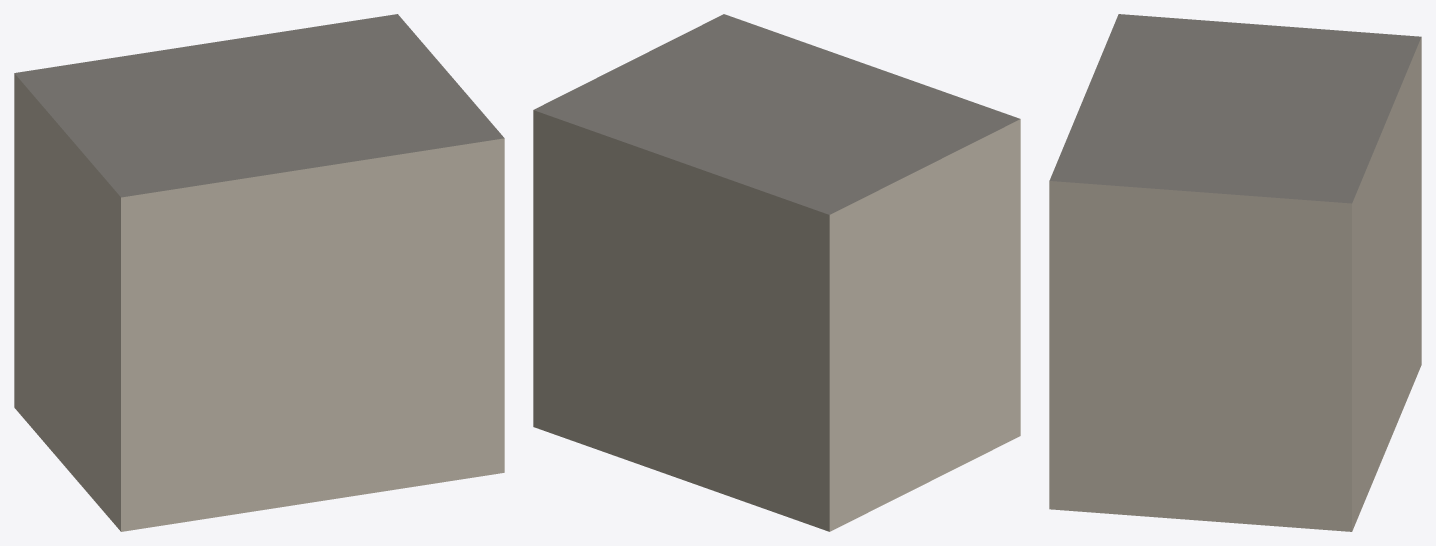
3 renders of one model, left to right at view 1: azimuth 30°, elevation 25°; view 2: azimuth 150°, elevation 25°; view 3: azimuth 270°, elevation 25°, orthographic. The views are drawn at different scales.
Visible parts, largest first — view 1: HP-w1286956086; view 2: HP-w1286956086; view 3: HP-w1286956086.
Boxes of the visible parts, x1,y1,x2,y2 form: HP-w1286956086: (14, 14, 504, 531); HP-w1286956086: (533, 14, 1020, 531); HP-w1286956086: (1049, 14, 1421, 531).
Bounding box in the file's own units: 22.28 × 18 × 18.48.
